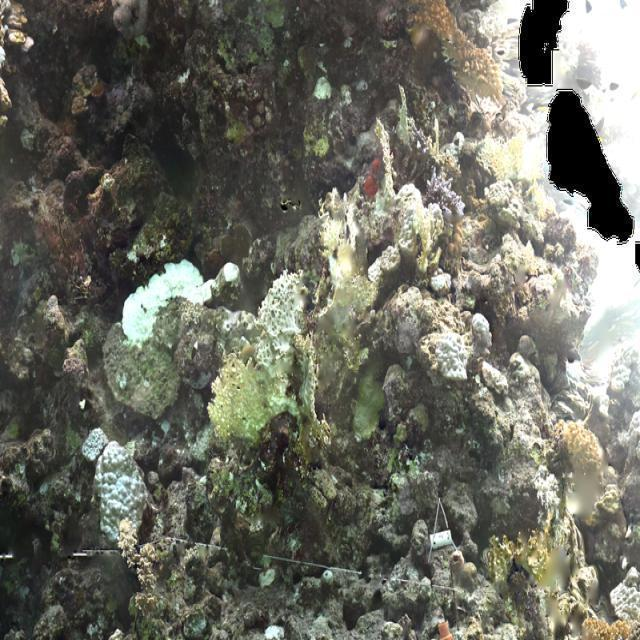Bleached Coral: (77, 415, 151, 545)
